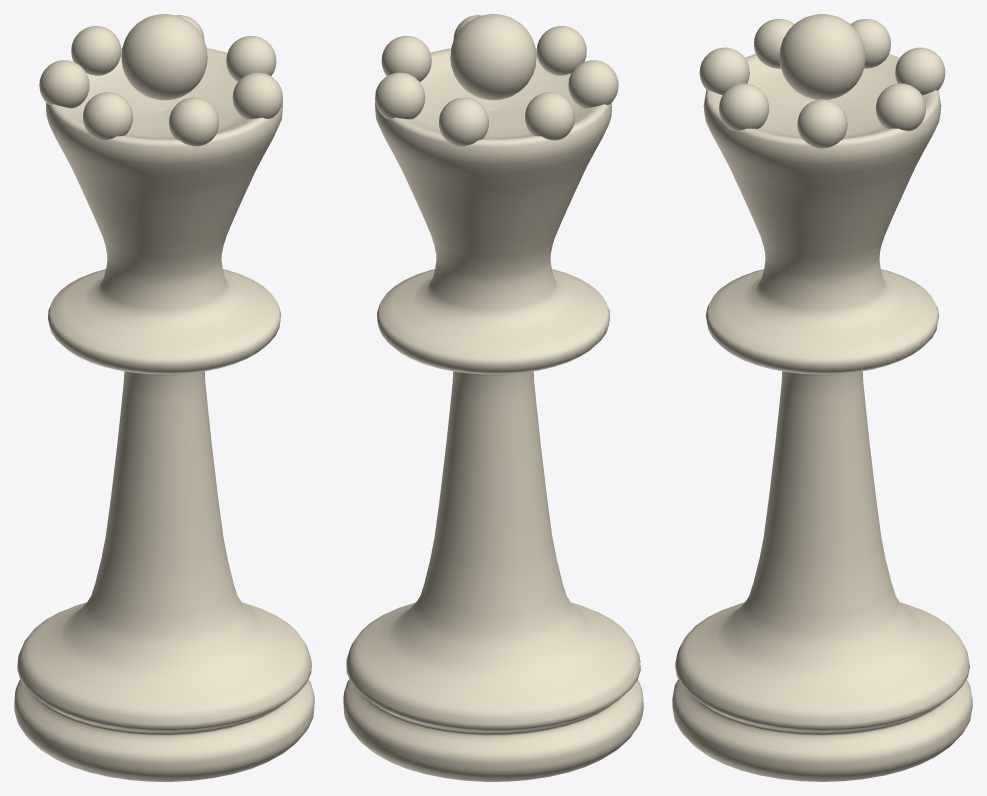
File: white_queen.glb
3 renders of one model, left to right at view 1: azimuth 30°, elevation 25°; view 2: azimuth 150°, elevation 25°; view 3: azimuth 270°, elevation 25°, orthographic.
Parts seen in each view (by area): view 1: white queen; view 2: white queen; view 3: white queen.
Boxes of the visible parts, x1,y1,x2,y2 form: white queen: (14, 14, 314, 781); white queen: (343, 14, 643, 781); white queen: (672, 14, 972, 781).
Size of the model in its own units: 0.0382 by 0.1 by 0.0382.
